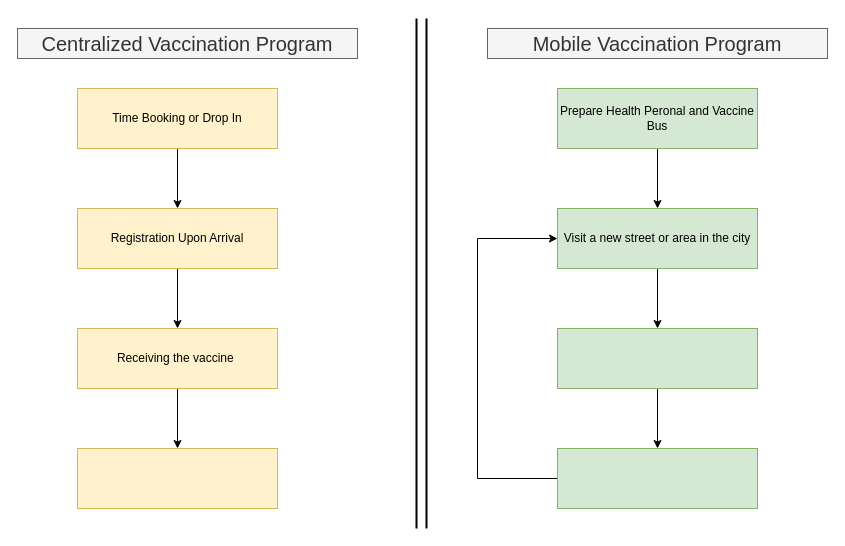
The diagram is 845 pixels wide and 546 high, and some of its shapes have lost their labels. The shapes that lost their labels are listed below. From the top down, each one's centre as x and y in pixels, then its label:
At [657,358]: "Vaccinate street or area residents".
At [177,478]: "Waiting for possible reactions as a precaution".
At [657,478]: "Wait for possible reactions as a precaution".
